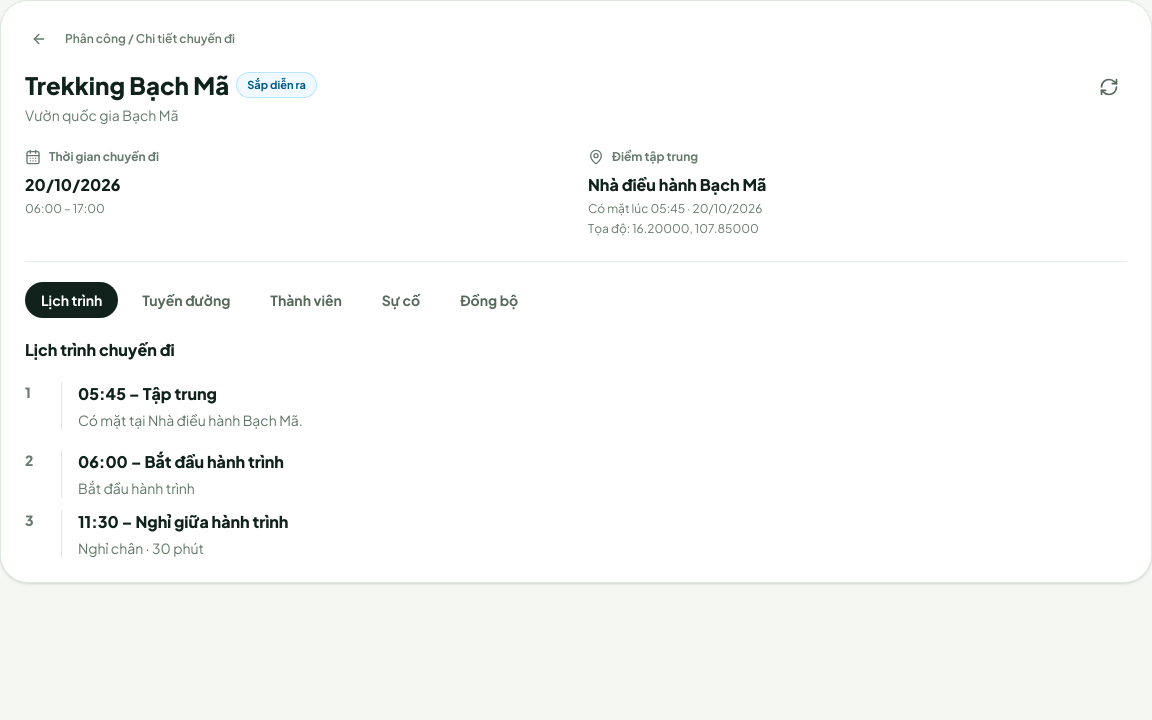
PorterAssignedTripDetail › loads the assigned Trip and reports a revoked assignment
Check: the heading "Trekking Bạch Mã" is shown, box [25,69,229,101]
Click the button named "Tải lại chi tiết" at (1109, 87), box [1091,69,1127,105]
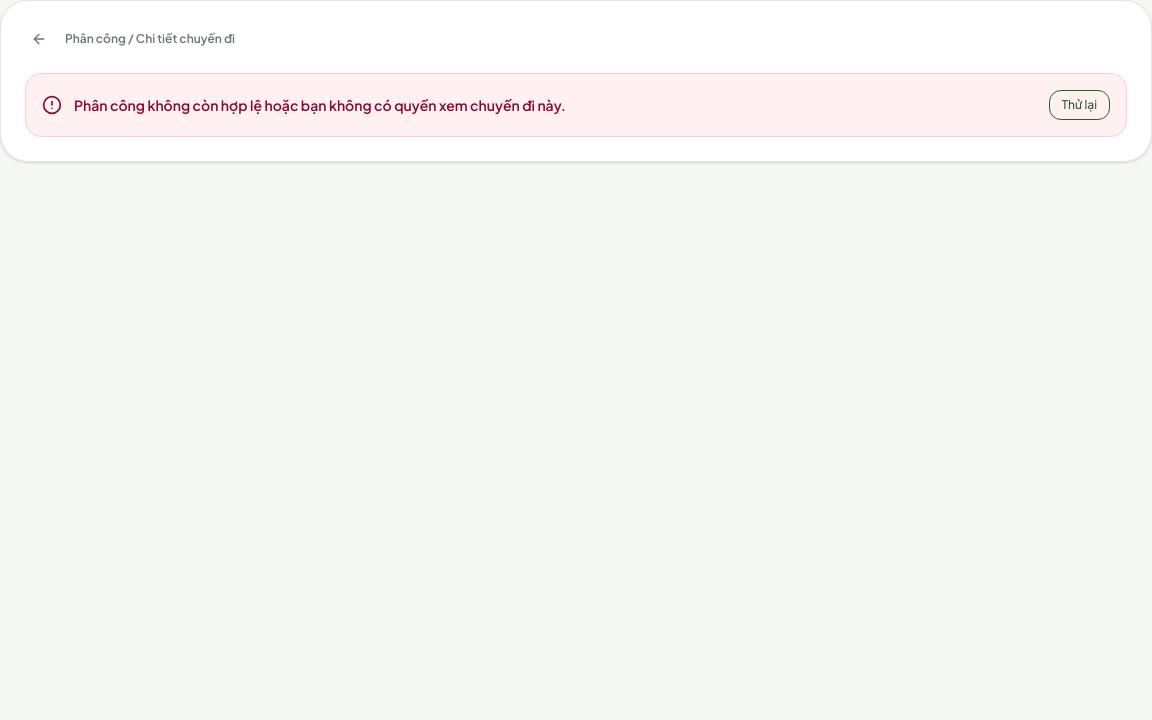
Check: the message shows "Phân công không còn hợp lệ", box [74,96,566,114]
